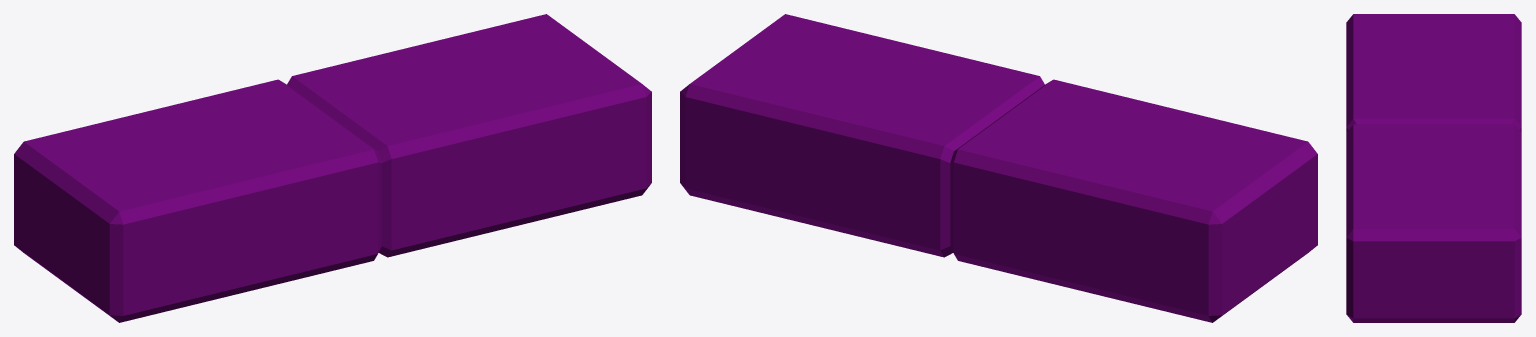
File: CeilingTile.fbx
The picture shows the model from 3 angles, left to right: view 1: azimuth 30°, elevation 25°; view 2: azimuth 150°, elevation 25°; view 3: azimuth 270°, elevation 25°; orthographic projection. The views are drawn at different scales.
Parts seen in each view (by area): view 1: CeilingTile; view 2: CeilingTile; view 3: CeilingTile.
Part boxes in pixels (x1,y1,x2,y2): CeilingTile: [14, 14, 651, 322]; CeilingTile: [680, 14, 1317, 322]; CeilingTile: [1346, 14, 1521, 322].
Bounding box in the file's own units: 8.54 × 1.68 × 2.83.
